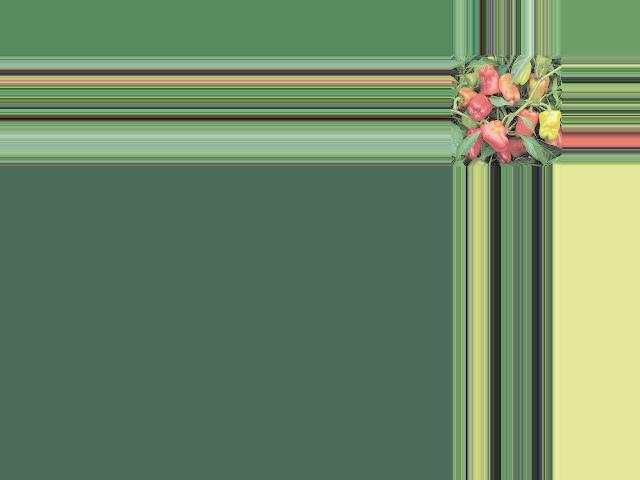bell_pepper: (456, 87, 475, 101)
